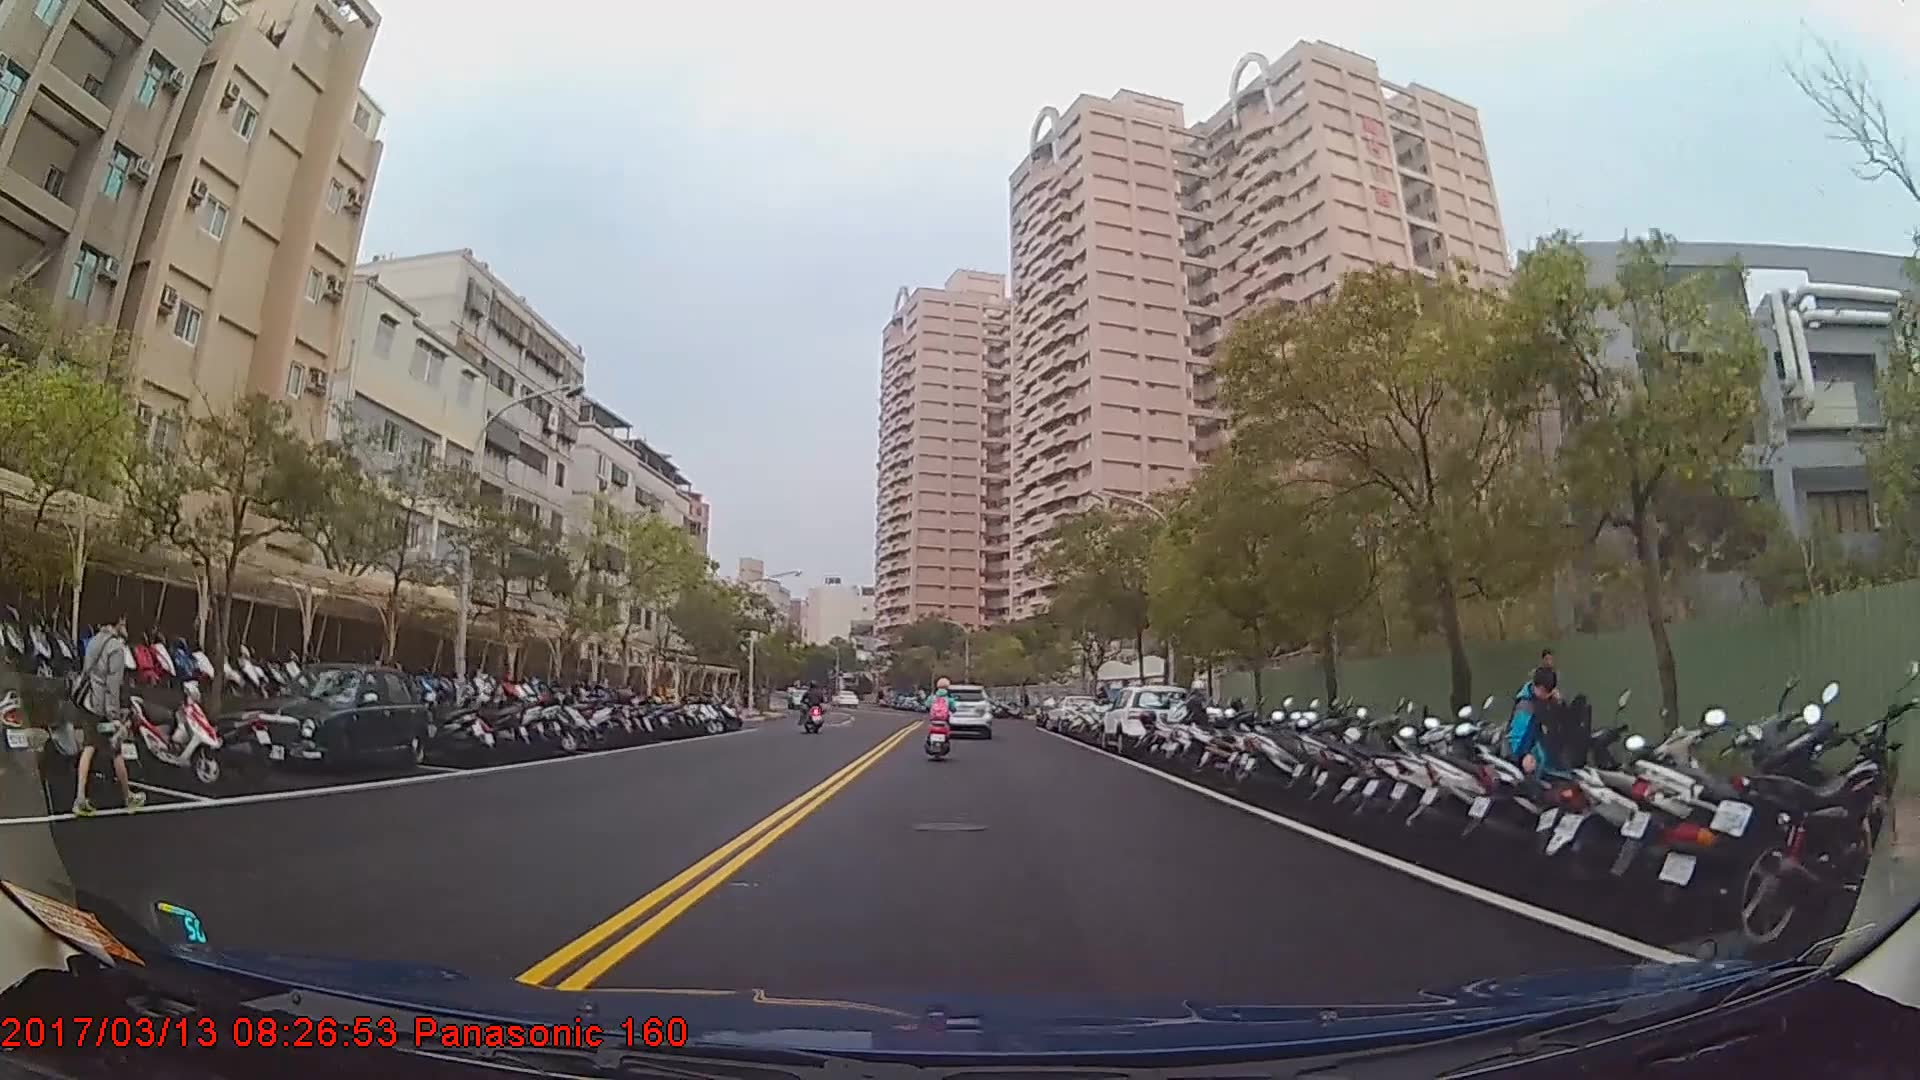pedestrian: (64, 599, 147, 820), (1506, 667, 1587, 857), (1520, 646, 1575, 772)
rider: (924, 672, 959, 759), (801, 679, 827, 734)
vehicle: (254, 661, 429, 778), (1099, 683, 1195, 755), (933, 684, 991, 737)
